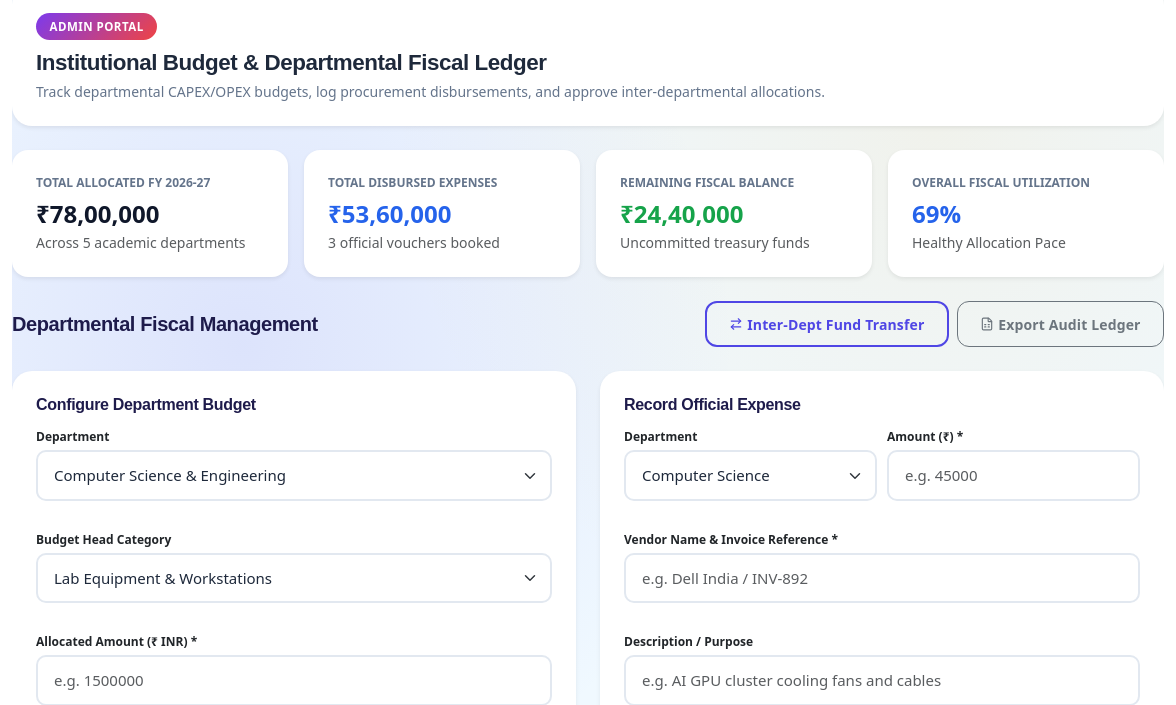
Test case: BudgetTrackingPage Component Tests › configures departmental budget via API and displays success alert
The width and height of the screenshot is (1176, 705).
Expected: the heading "Configure Department Budget" is shown, [36,396,256,413]
Select "Mechanical Engineering" in the dropdown labelled "Department" below "Configure Department Budget": (294, 476) [36,450,552,501]
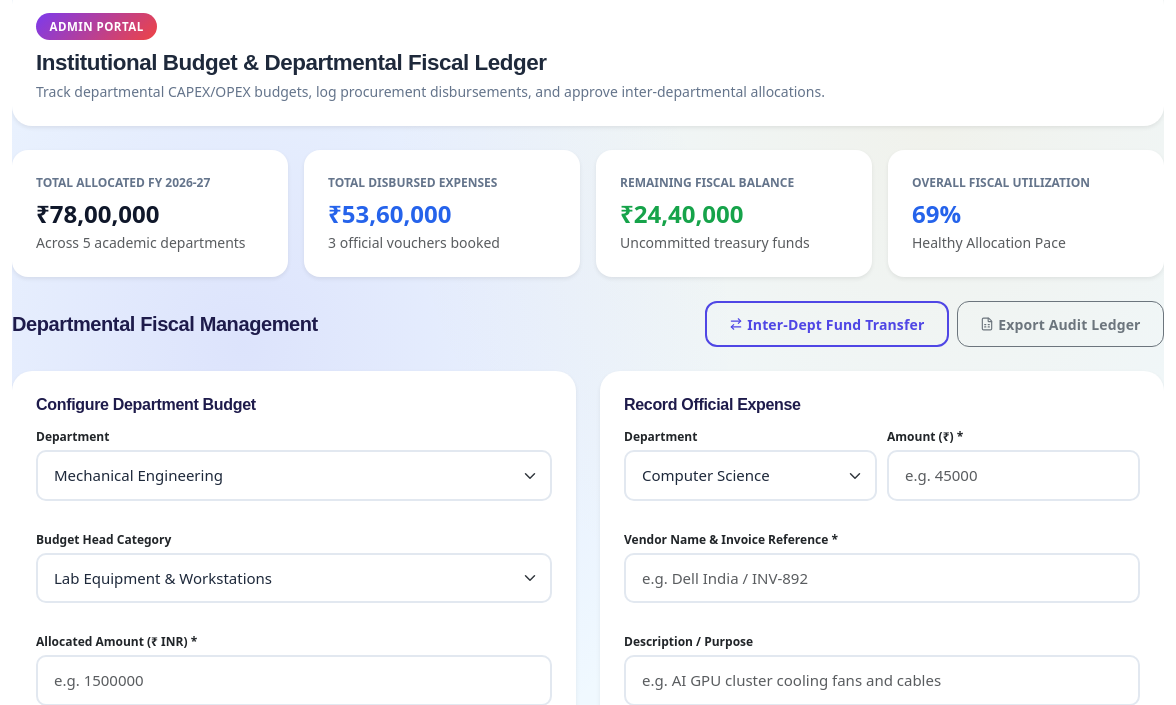
In the number field labelled "Allocated Amount (₹ INR) *": (294, 681) [36,655,552,704], type "500000"
(page scrolled)
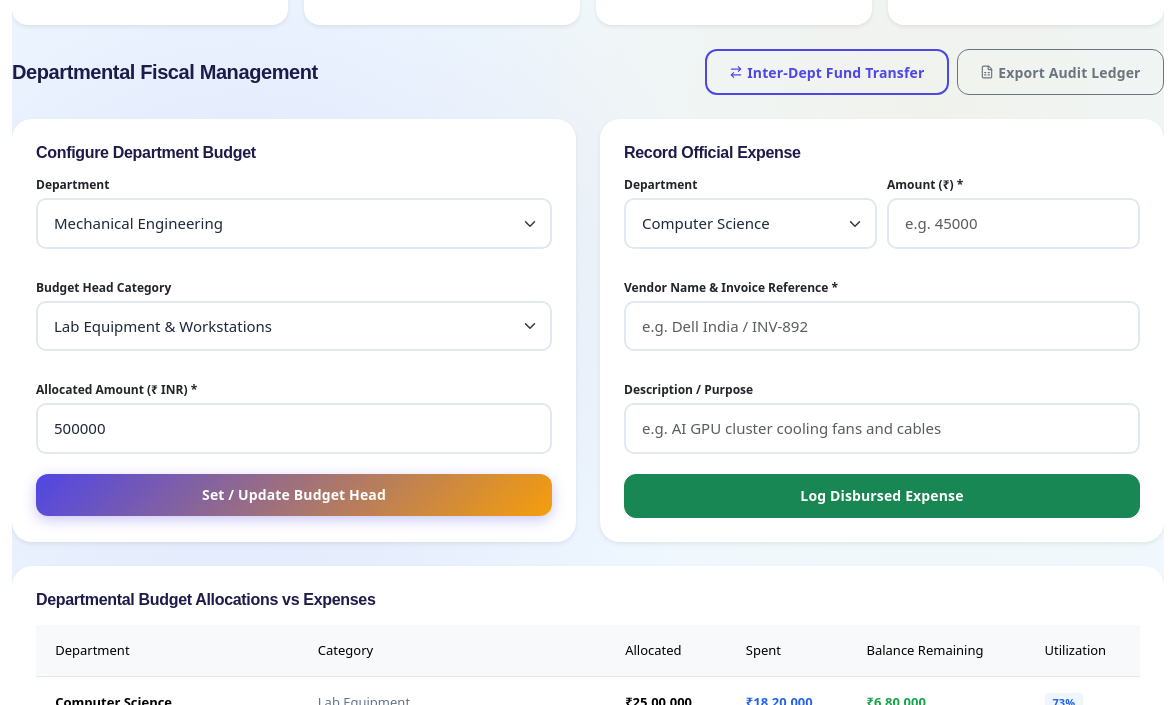
Submit the form named "Set / Update Budget Head", box [36,176,552,516]
(page scrolled)
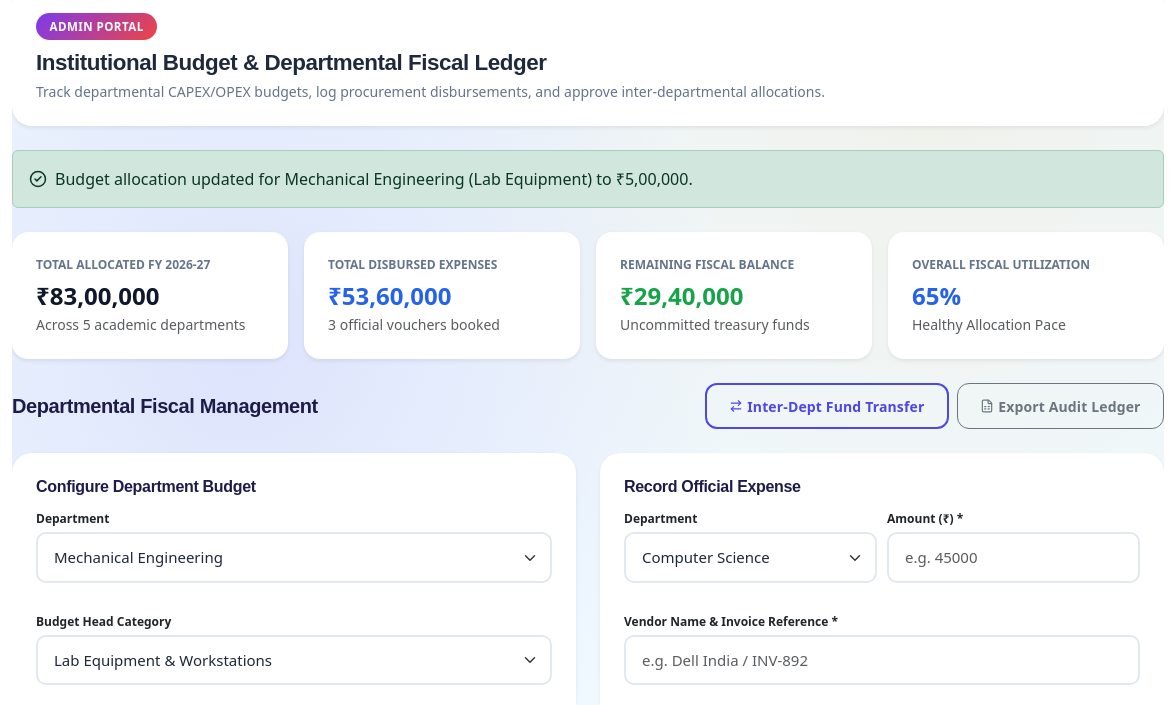
Expected: the element with test id "budget-success-alert" is shown, [12,150,1164,208]
Expected: the text "Budget allocation updated for Mechanical Engineering" is shown, [55,168,693,190]
